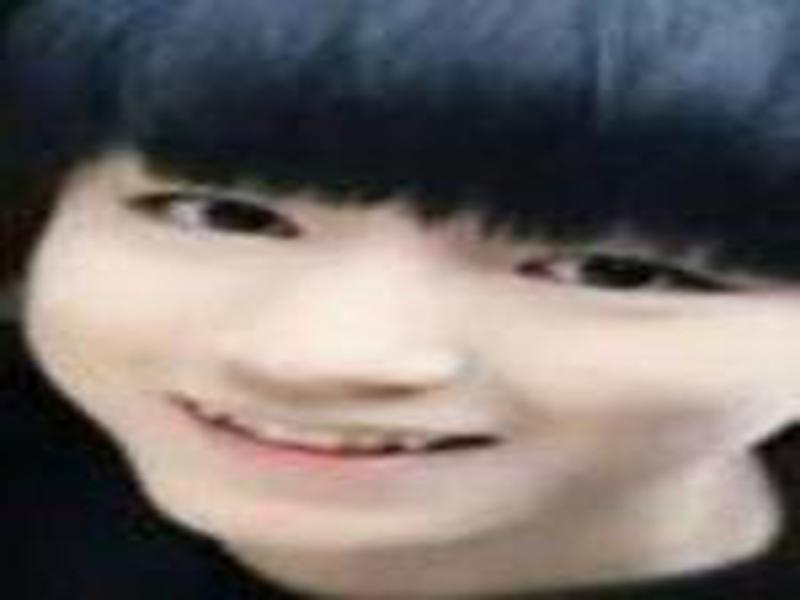without_mask: (19, 102, 800, 557)
